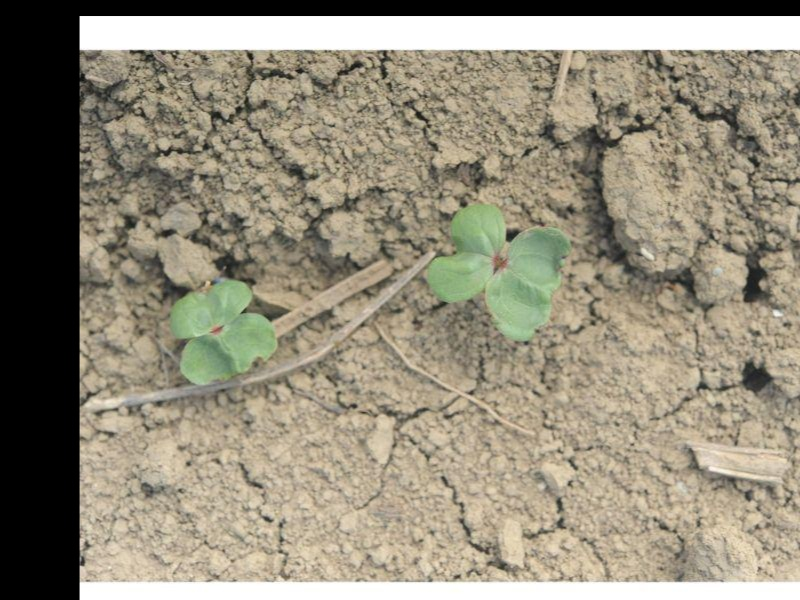cotton: (431, 205, 571, 343), (169, 276, 274, 386)
